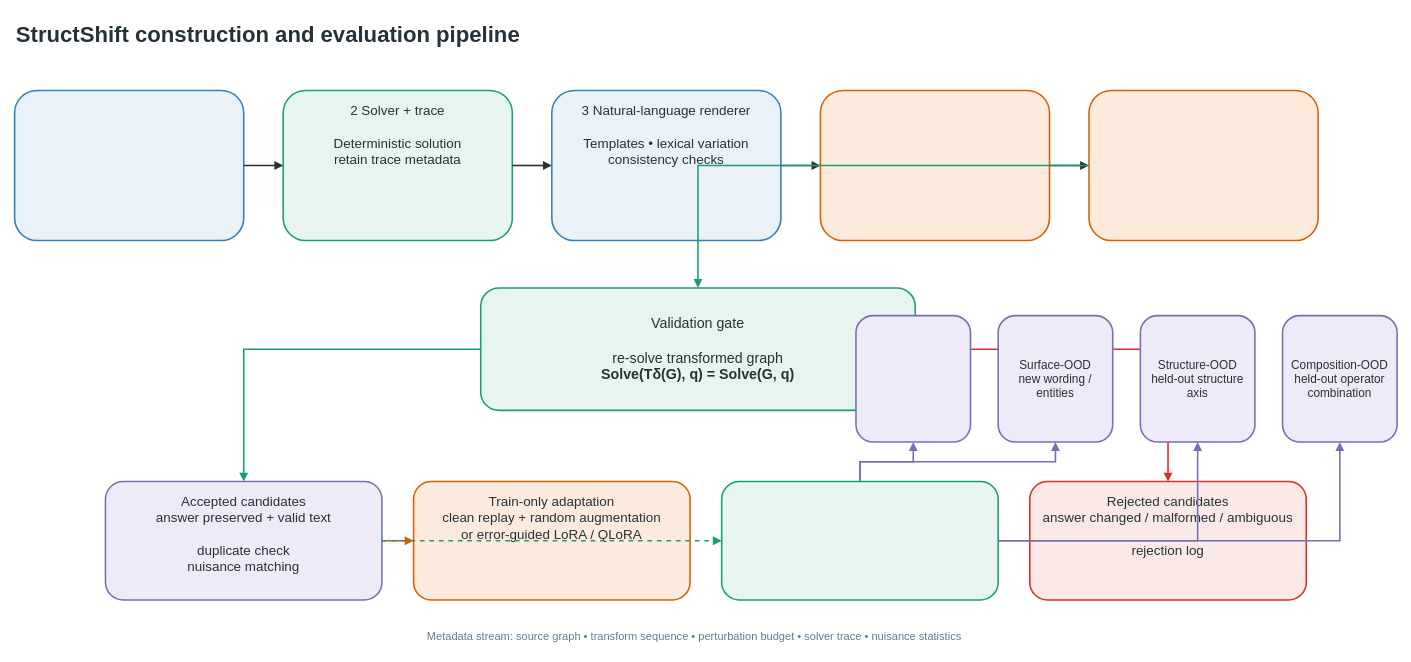
Image size: 1411x662. Some labels were removed from this diagram. Each missing label, with the centre of its shape:
1 Symbolic seed graph Depth • branching operators • answer: pixel 128 165
4 Transform grammar Order • depth/branching composition • side question: pixel 934 165
5 Candidate pair Clean + transformed item transform metadata: pixel 1203 165
Held-out test pool fresh seeds and held-out structures never enters hard mining: pixel 859 540
IID same graph distribution: pixel 913 378
